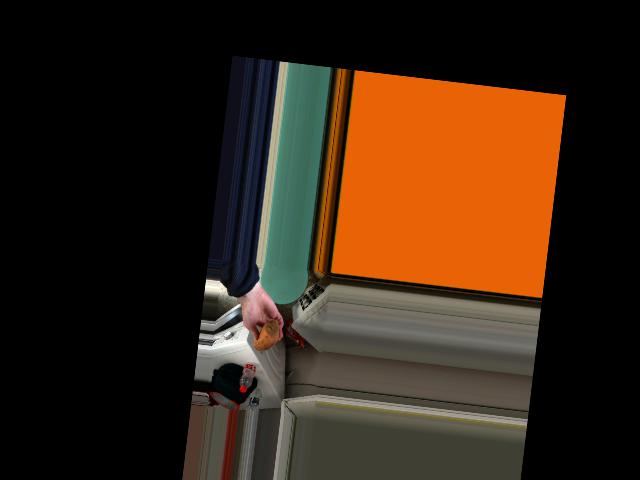sweet_potato: (254, 321, 279, 352)
